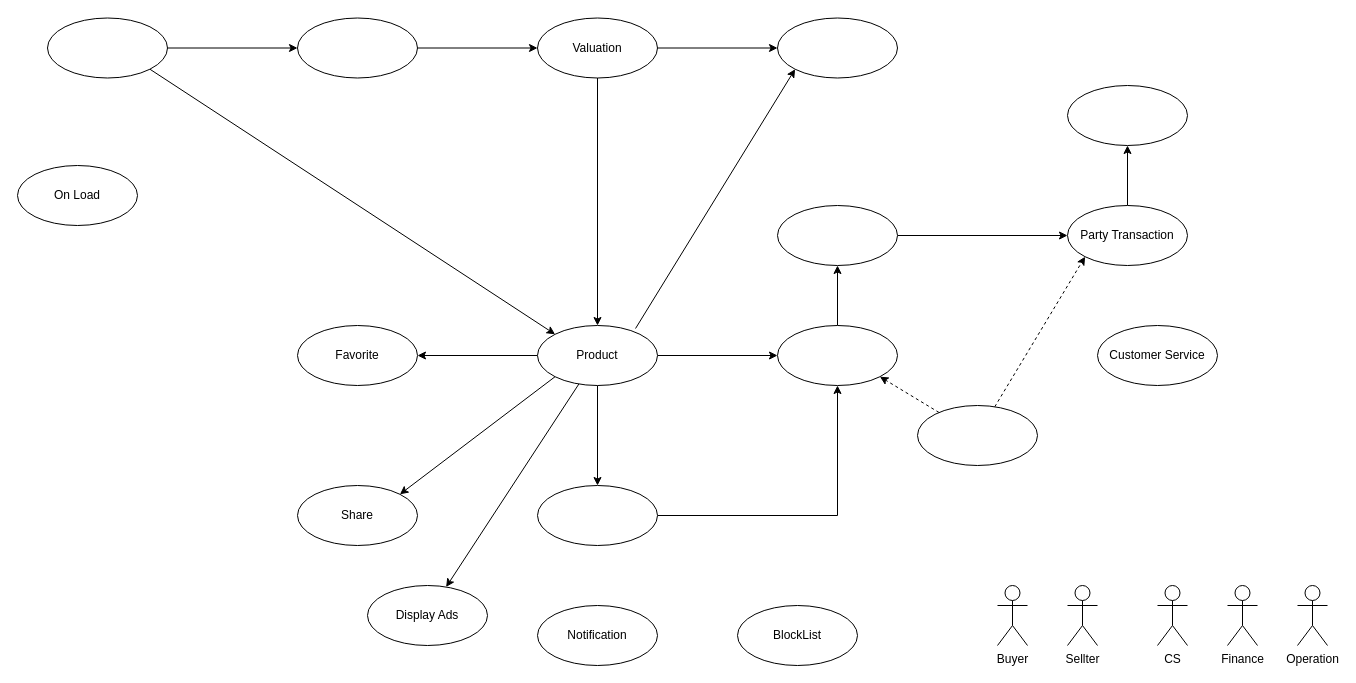
Image size: 1356x683. Some labels were removed from this diagram. The shapes that lost their labels are listed below. From the top down, each one's centre as x and y in pixels, then its label:
(x=107, y=47): Game
(x=357, y=47): Game Assets
(x=837, y=47): Verification
(x=1127, y=115): Settlement
(x=837, y=235): Payment
(x=837, y=355): Order
(x=977, y=435): Protection
(x=597, y=515): Bargain
